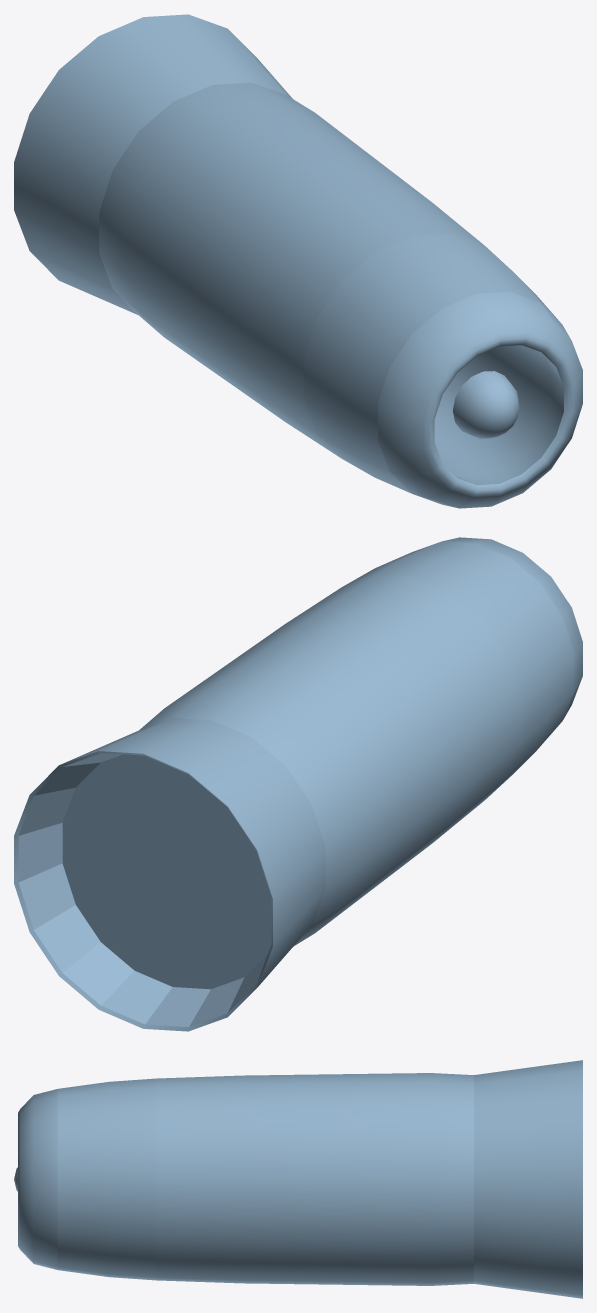
File: engine 2.FBX
3 views of the same model, one above another, from view 1: azimuth 30°, elevation 25°; view 2: azimuth 150°, elevation 25°; view 3: azimuth 270°, elevation 25° (orthographic). The views are drawn at different scales.
Visible parts, largest first — view 1: body; view 2: body; view 3: body.
Part boxes in pixels (bbox=[...]): body: bbox=[14, 14, 582, 508]; body: bbox=[14, 537, 582, 1031]; body: bbox=[14, 1060, 582, 1298].
Size of the model in its own units: 0.0291 by 0.0703 by 0.0296.
